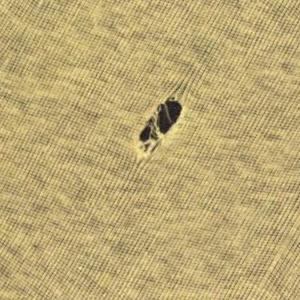hole: (130, 93, 190, 155)
